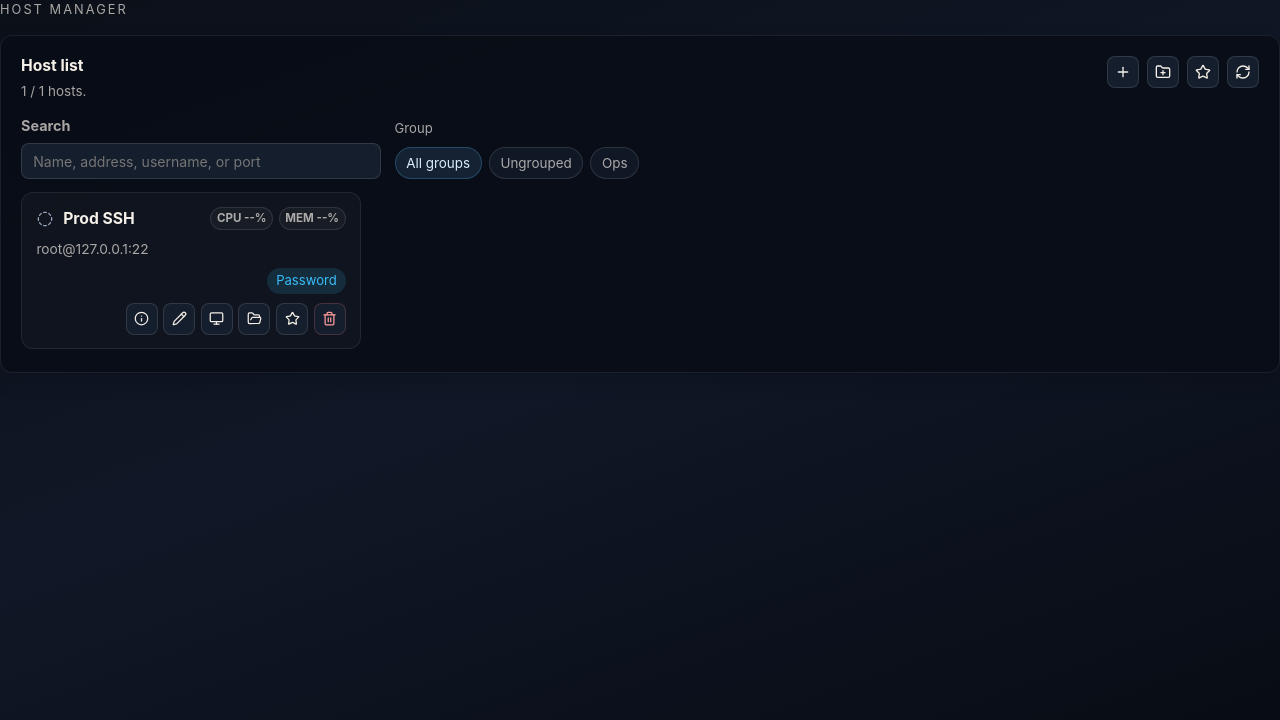
HostsPage › tests an edited host with the current auth method and bound credential
Expected: the text "Prod SSH" is shown, [63,209,135,228]
Click the button named "Edit host" at (179, 319), box [163,303,195,335]
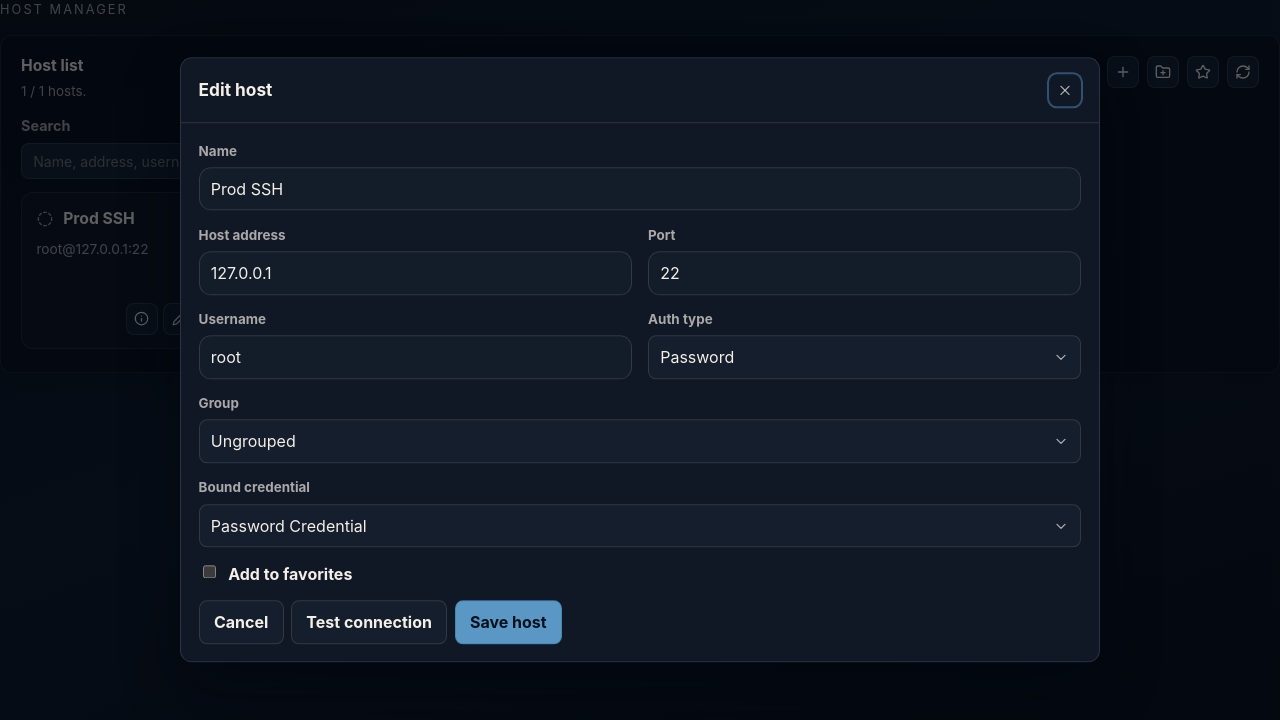
Click the dropdown named "Auth type" at (697, 357), box [648,336,1081,379]
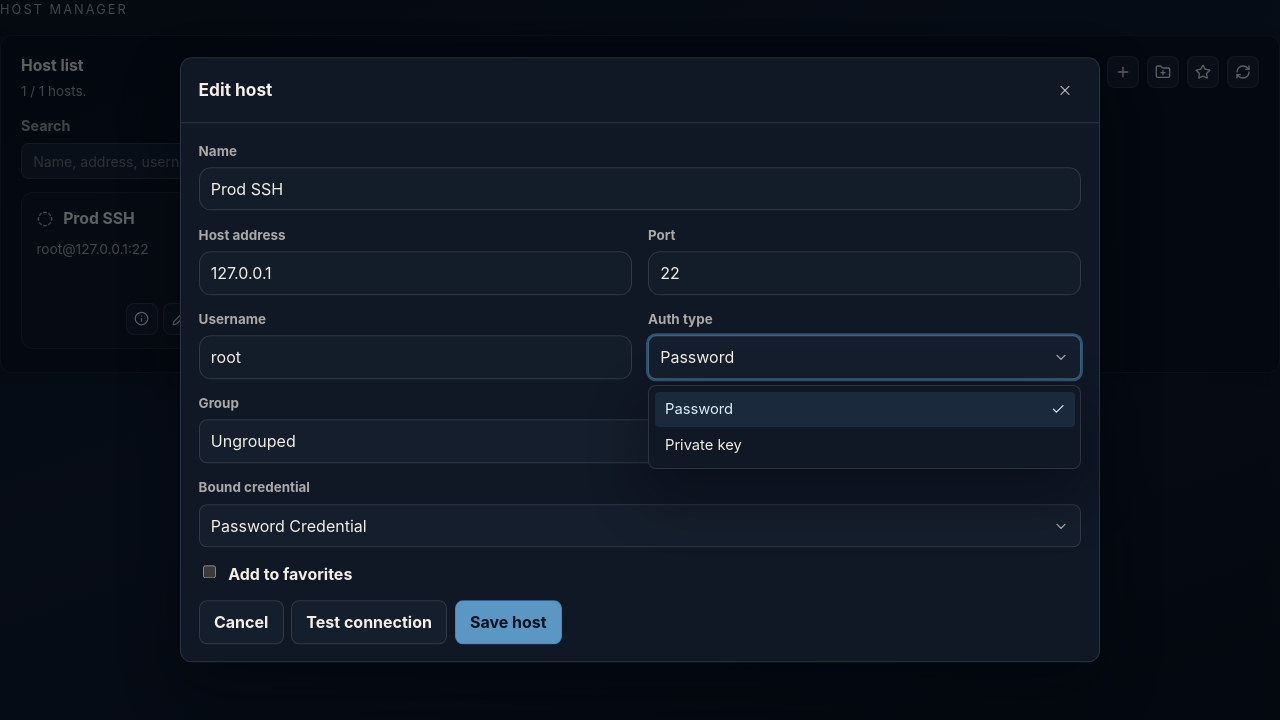
Click the option "Private key" at (703, 445), box [665,436,742,454]
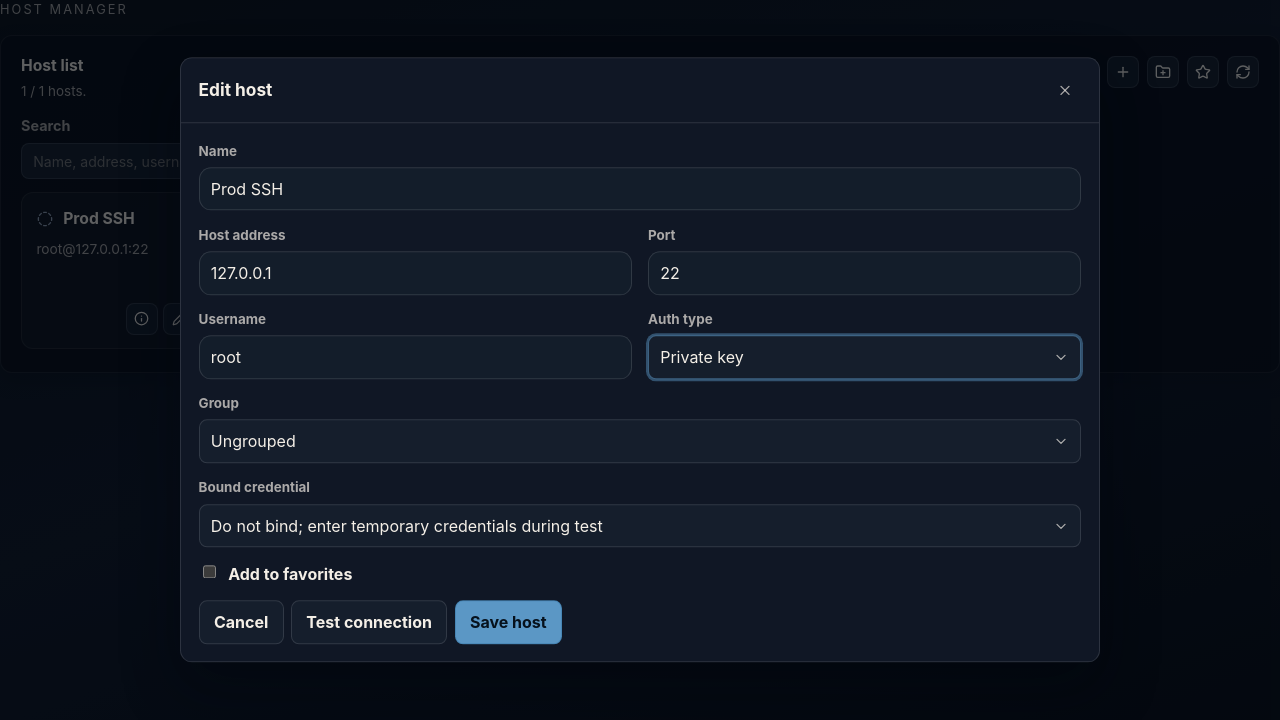
Click the dropdown named "Bound credential" at (407, 526), box [199,504,1081,548]
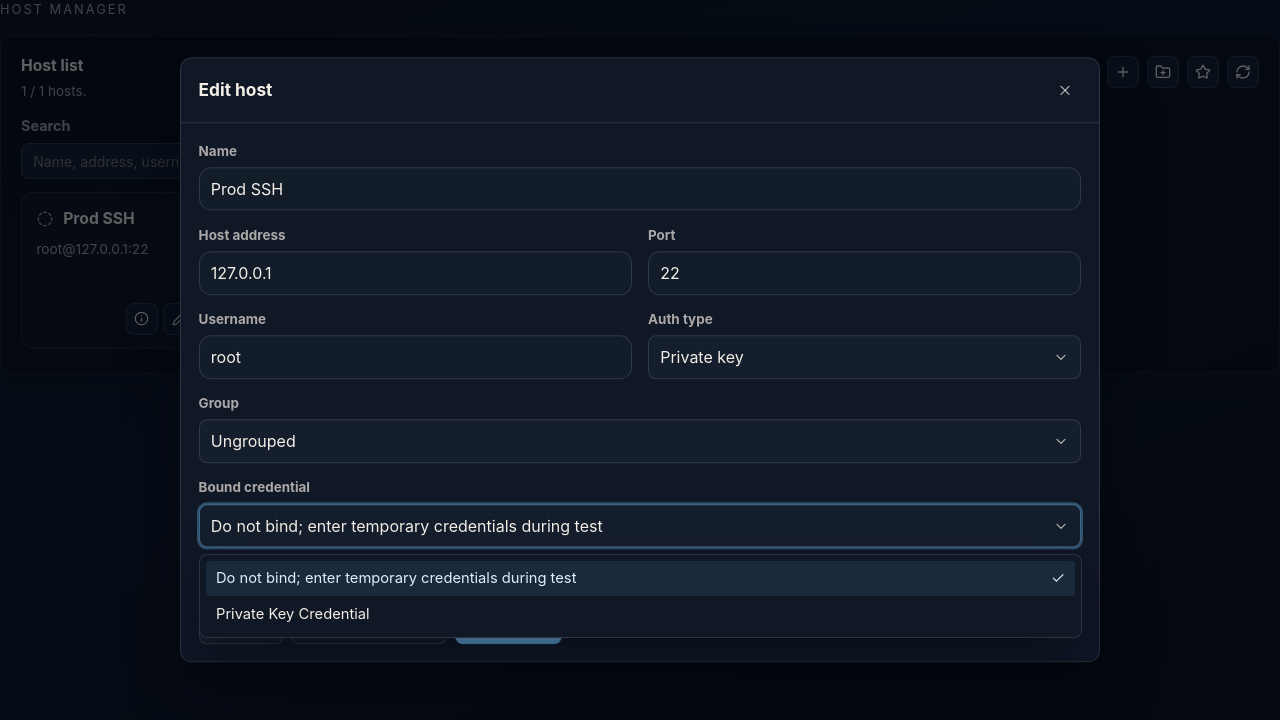
Click the option "Private Key Credential" at (293, 614), box [216,605,370,623]
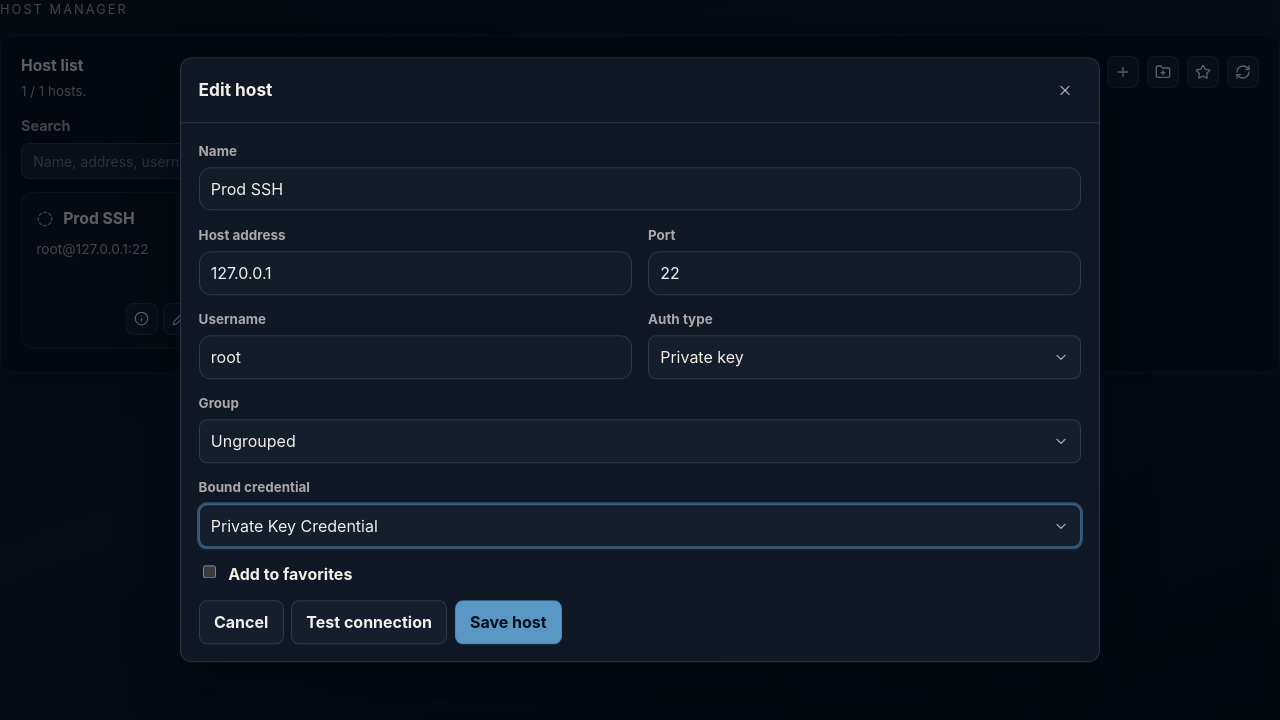
Click the button "Test connection" at (369, 622), box [291,600,447,644]
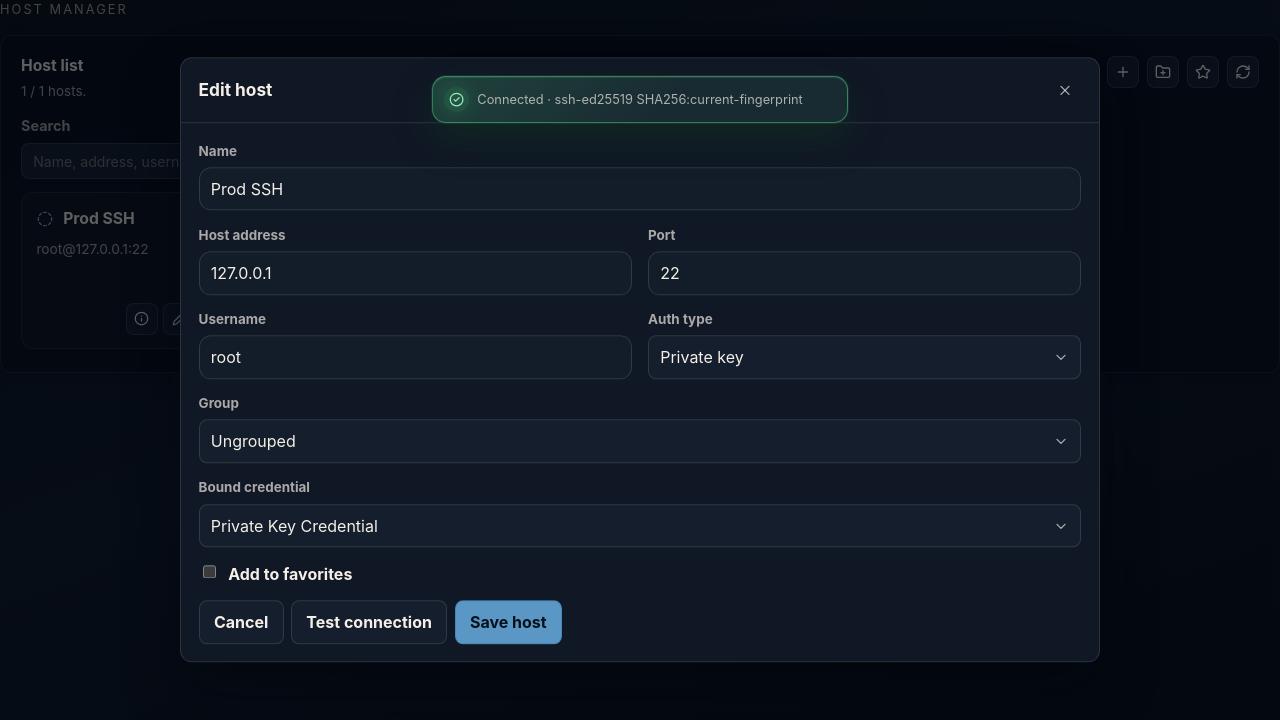
Now the text "Connected · ssh-ed25519 SHA256:current-fingerprint" is shown, box [477,91,803,108]
